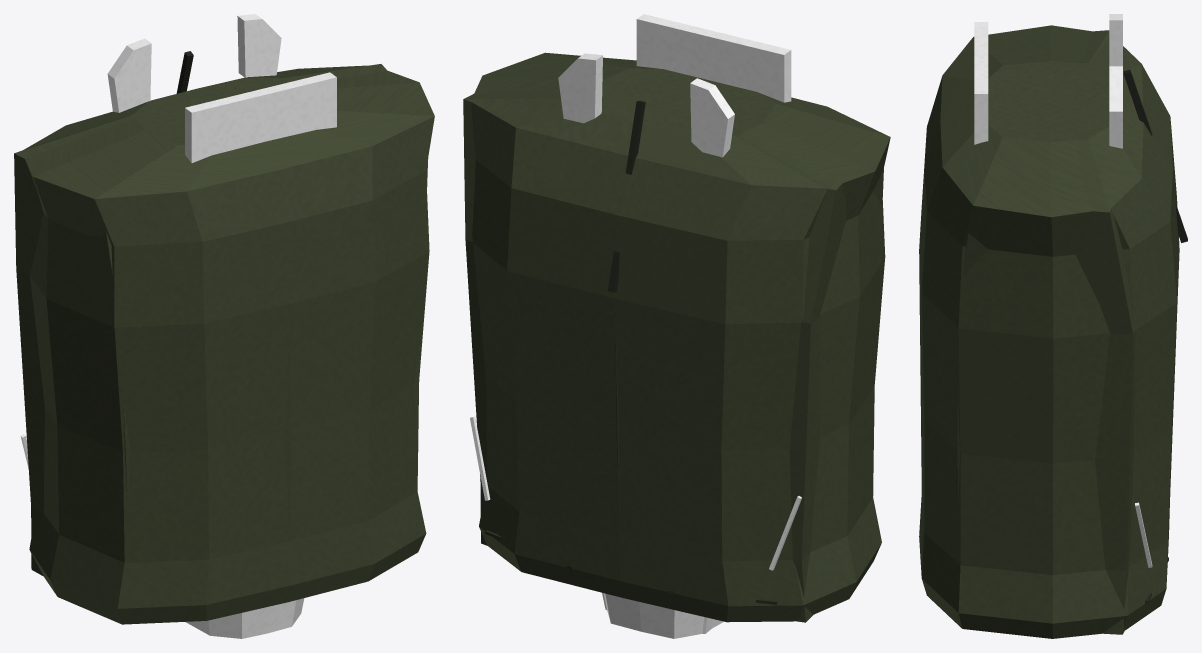
The model's file is jacket_g4.glb.
The picture shows the model from 3 angles, left to right: view 1: azimuth 30°, elevation 25°; view 2: azimuth 150°, elevation 25°; view 3: azimuth 270°, elevation 25°; orthographic projection.
Visible parts, largest first — view 1: jacket_g4_torso_LOD0_RAID_jersey.001, jacket_g4_torso_LOD1_RAID_jersey.001, jacket_g4_torso_LOD0_RAID_cloth.001, jacket_g4_torso_LOD1_RAID_cloth.001, jacket_g4_upperL_LOD0_RAID_cloth.001; view 2: jacket_g4_torso_LOD0_RAID_jersey.001, jacket_g4_torso_LOD1_RAID_jersey.001, jacket_g4_torso_LOD0_RAID_cloth.001, jacket_g4_torso_LOD1_RAID_cloth.001, jacket_g4_upperL_LOD0_RAID_cloth.001, jacket_g4_torso_LOD0_RAID_zip.001; view 3: jacket_g4_torso_LOD0_RAID_jersey.001, jacket_g4_torso_LOD1_RAID_jersey.001, jacket_g4_torso_LOD0_RAID_cloth.001, jacket_g4_torso_LOD1_RAID_cloth.001, jacket_g4_torso_LOD0_RAID_zip.001.
Boxes of the visible parts, x1,y1,x2,y2 form: jacket_g4_torso_LOD0_RAID_jersey.001: (24, 65, 434, 624); jacket_g4_torso_LOD1_RAID_jersey.001: (14, 64, 428, 575); jacket_g4_torso_LOD0_RAID_cloth.001: (20, 14, 336, 468); jacket_g4_torso_LOD1_RAID_cloth.001: (185, 72, 336, 162); jacket_g4_upperL_LOD0_RAID_cloth.001: (186, 598, 304, 638); jacket_g4_torso_LOD0_RAID_jersey.001: (471, 52, 890, 622); jacket_g4_torso_LOD1_RAID_jersey.001: (463, 68, 883, 622); jacket_g4_torso_LOD0_RAID_cloth.001: (470, 17, 801, 570); jacket_g4_torso_LOD1_RAID_cloth.001: (636, 14, 791, 102); jacket_g4_upperL_LOD0_RAID_cloth.001: (603, 593, 723, 638); jacket_g4_torso_LOD0_RAID_zip.001: (608, 100, 645, 292); jacket_g4_torso_LOD0_RAID_jersey.001: (919, 25, 1179, 638); jacket_g4_torso_LOD1_RAID_jersey.001: (919, 30, 1178, 634); jacket_g4_torso_LOD0_RAID_cloth.001: (974, 14, 1152, 567); jacket_g4_torso_LOD1_RAID_cloth.001: (974, 22, 988, 144); jacket_g4_torso_LOD0_RAID_zip.001: (1123, 69, 1187, 242).
Size of the model in its own units: 0.4579 by 0.6227 by 0.271.
5 materials, 5 textured.
